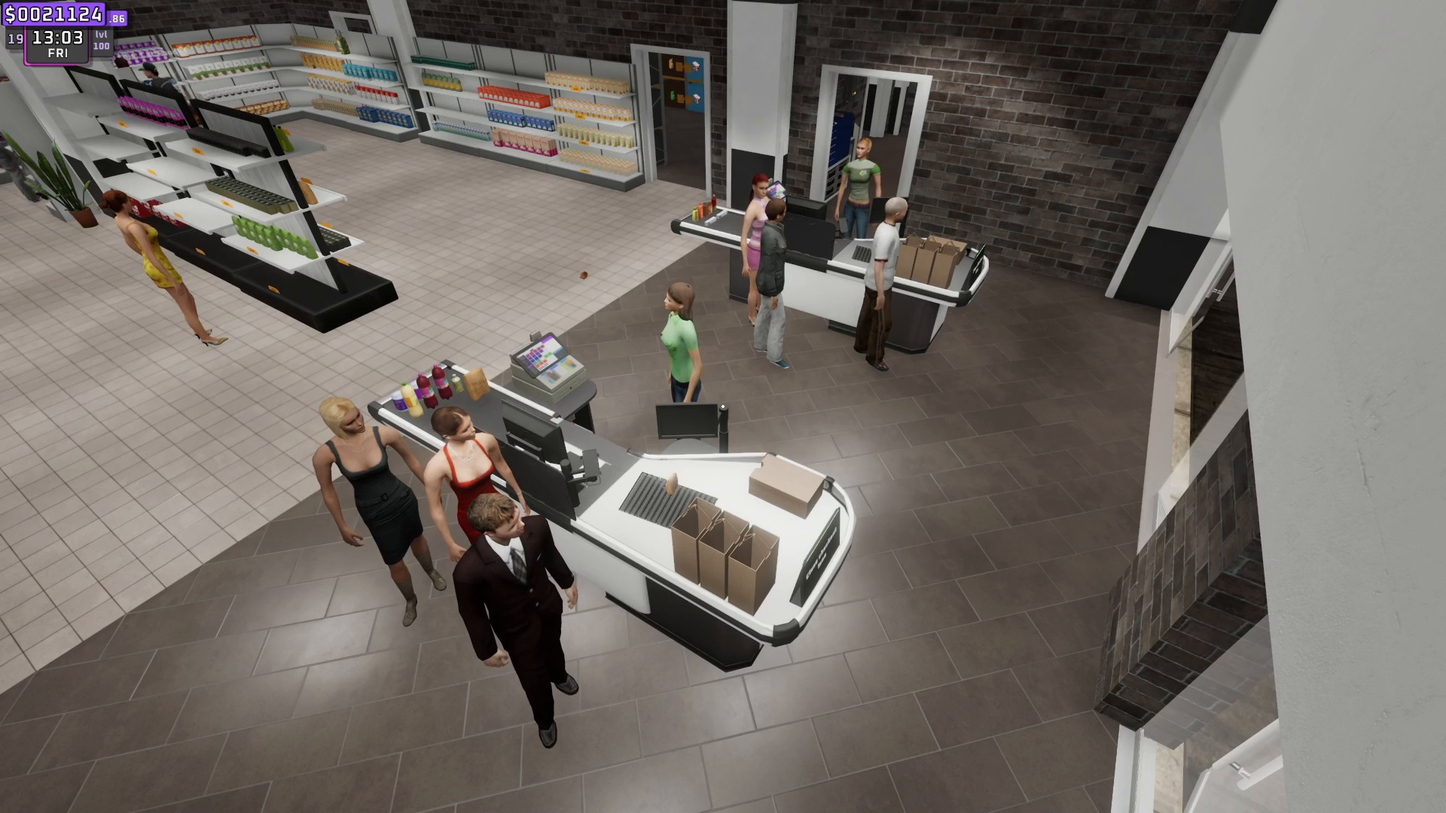Client: (459, 499, 600, 737), (310, 401, 437, 611), (430, 406, 505, 572), (873, 197, 917, 383), (758, 196, 794, 375), (737, 178, 768, 325)
Employee: (658, 278, 707, 401), (839, 133, 876, 228)
